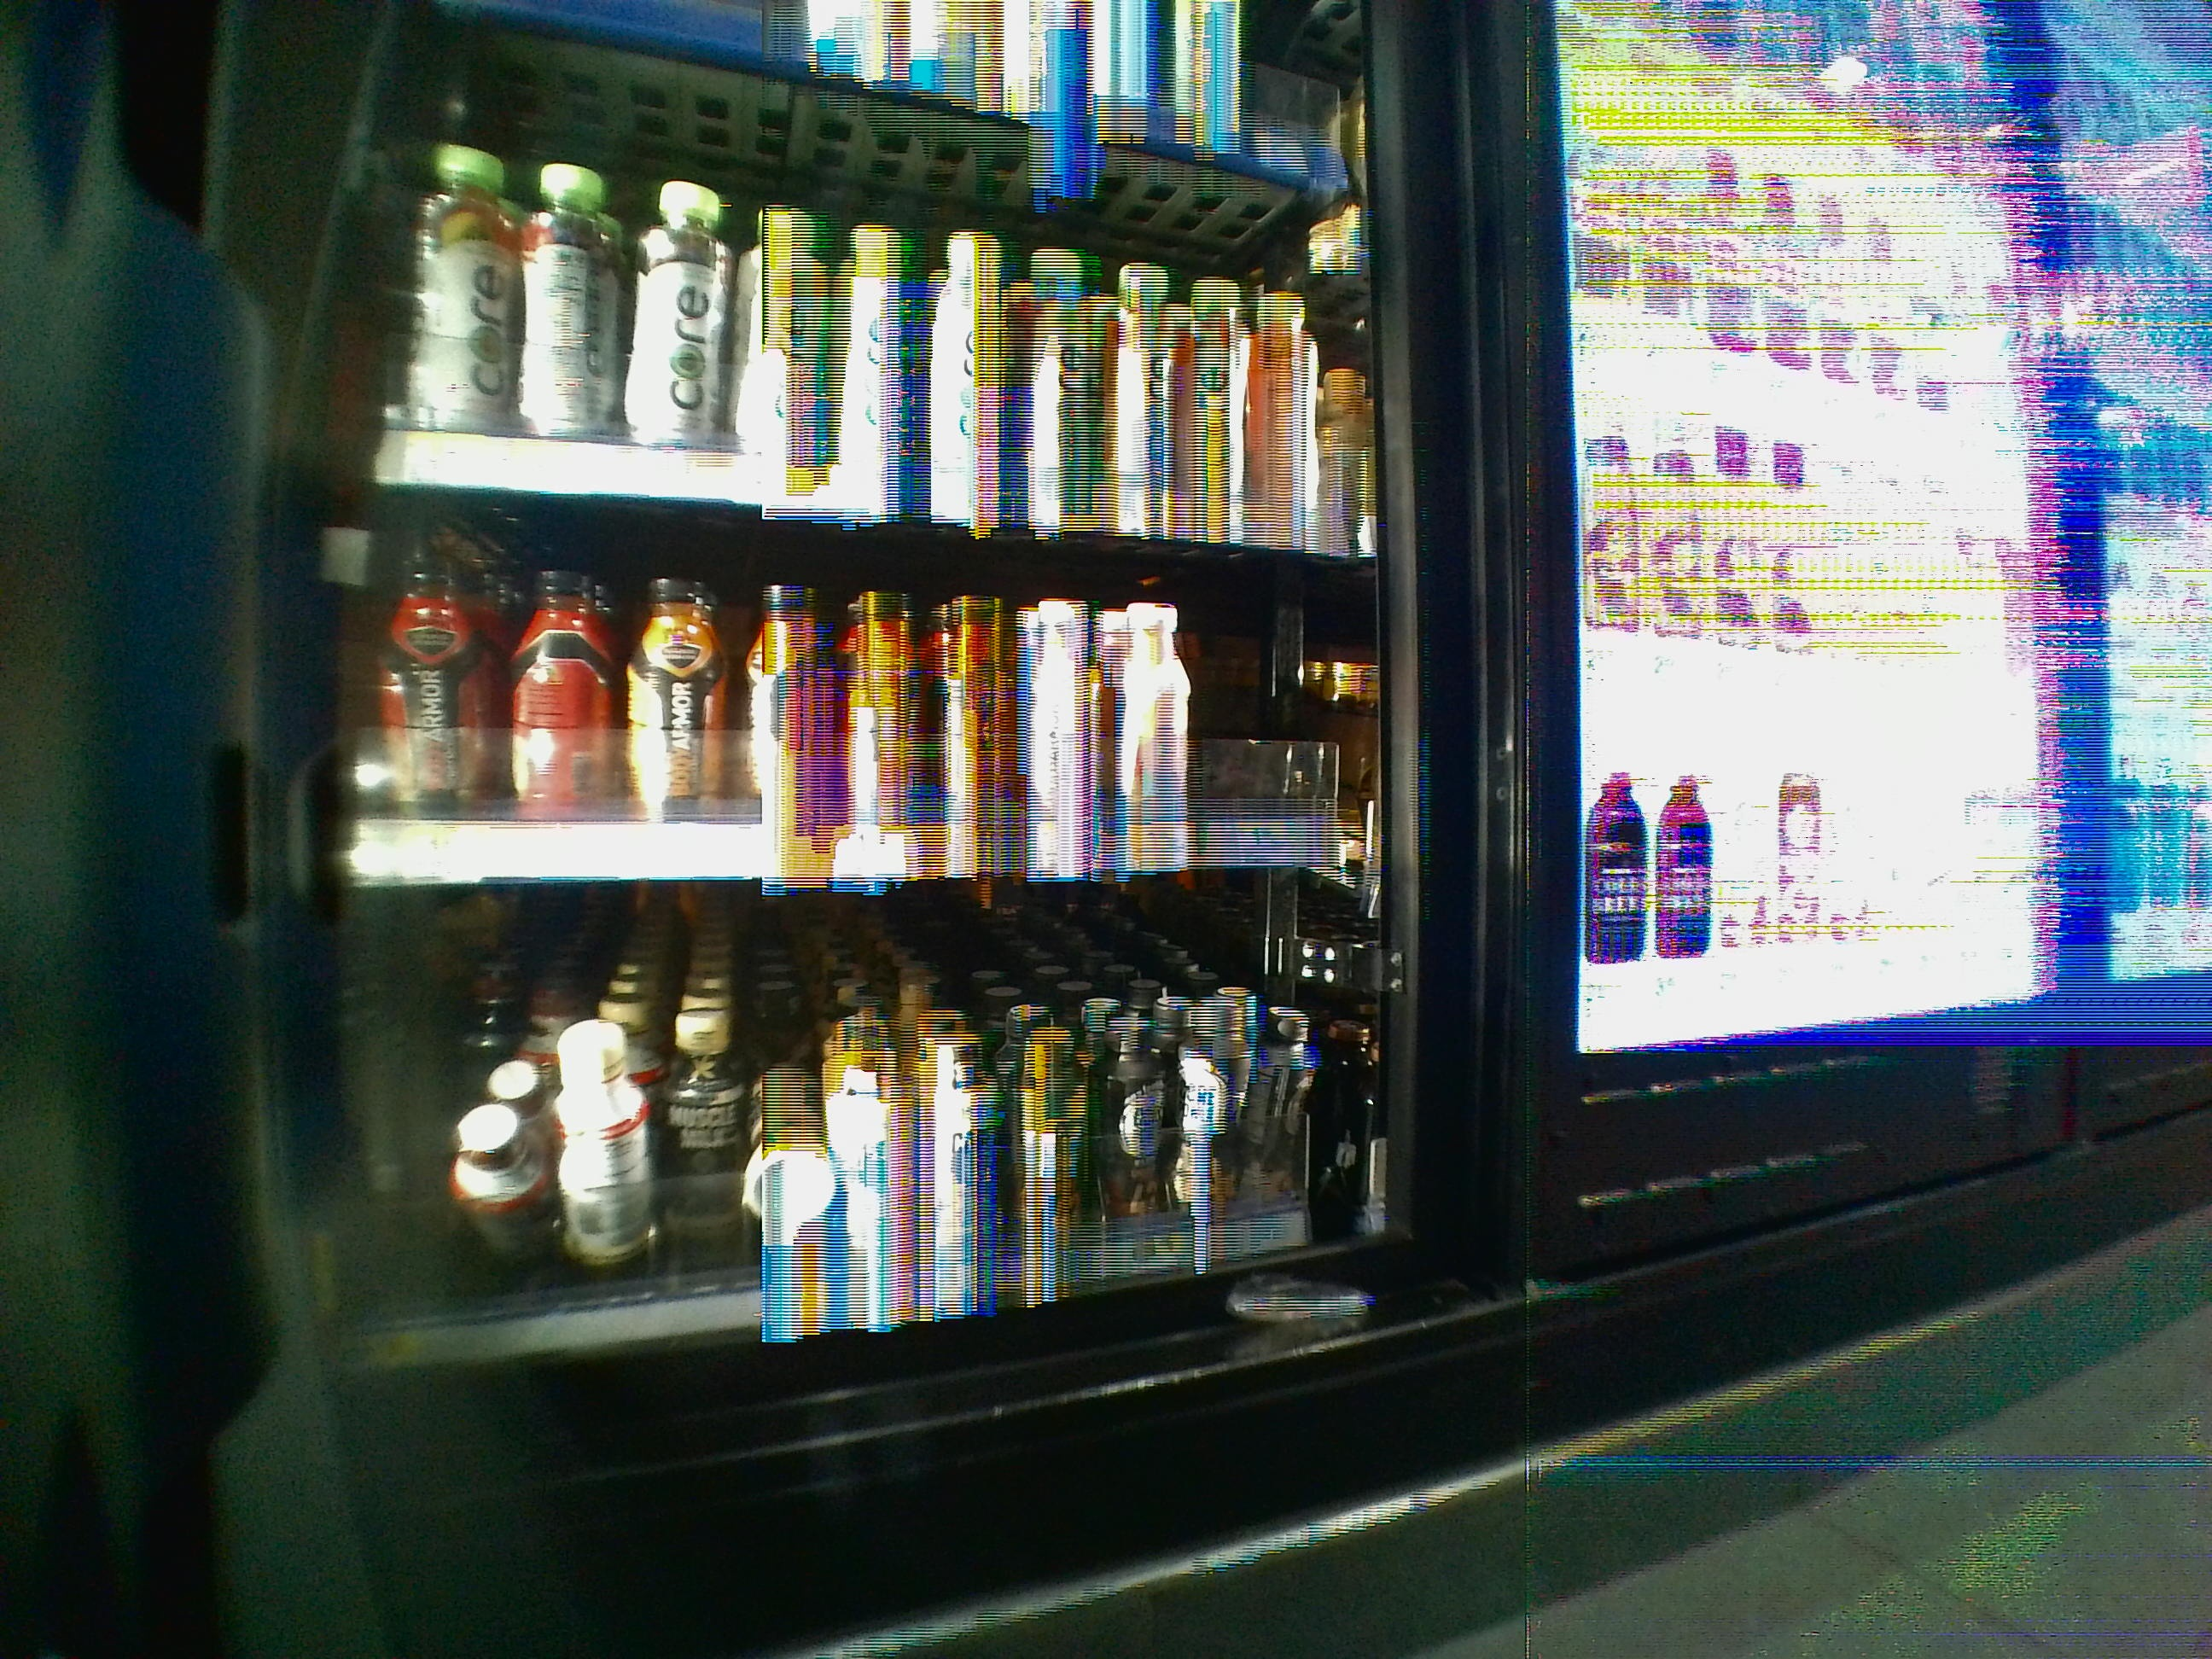shelf: (348, 483, 1393, 871)
